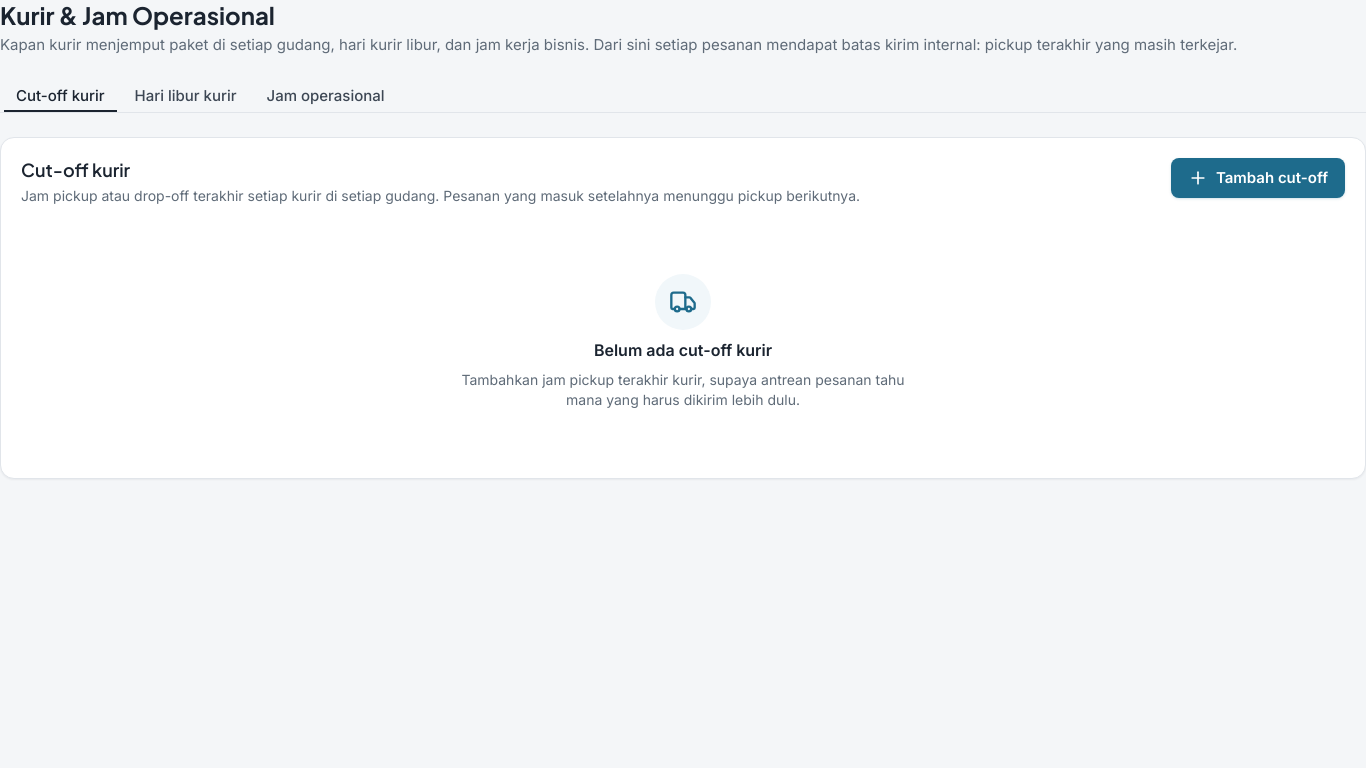
Kurir & Jam Operasional (L43) › says when the warehouse already has that courier
Expected: the text "Belum ada cut-off kurir" is shown, [594,338,772,362]
Click the button "Tambah cut-off". click: (1258, 178)
box: [1171,158,1345,198]
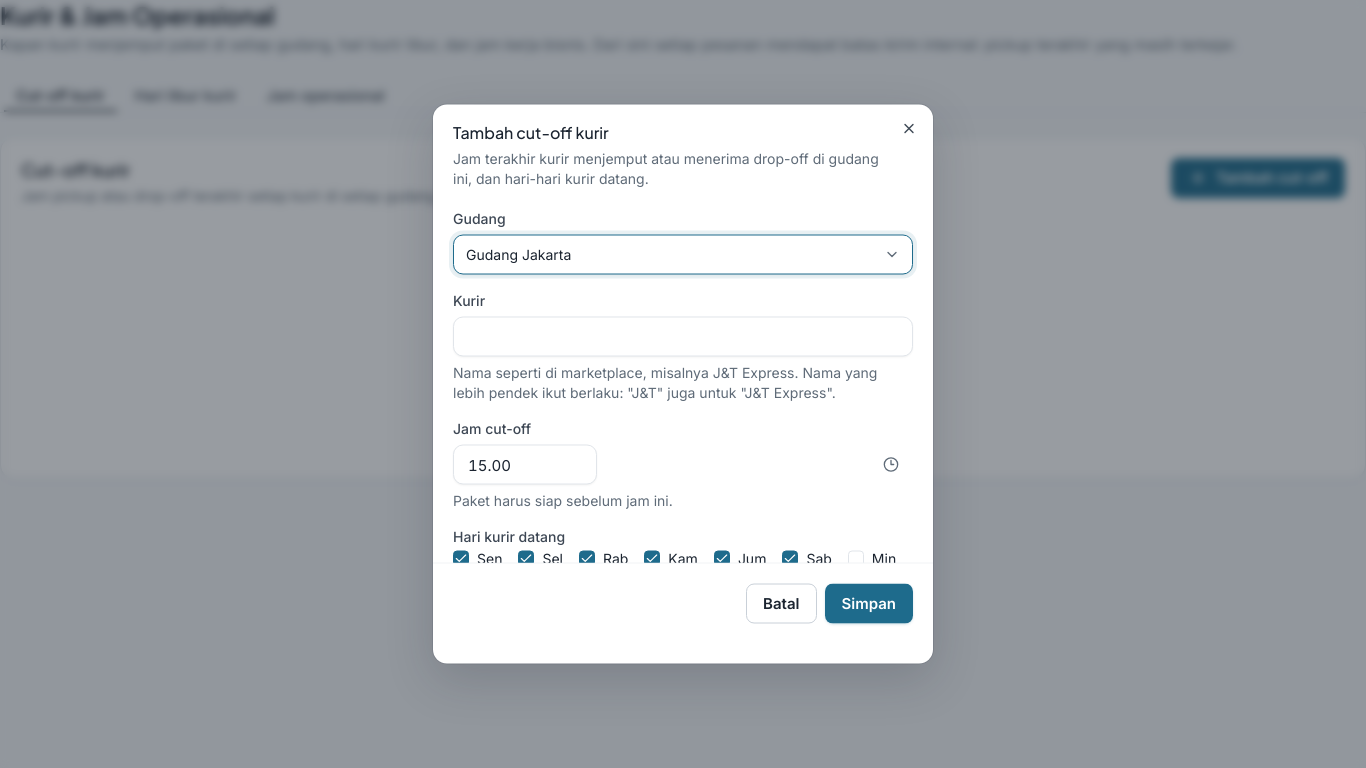
Type "JNE" into the field labelled "Kurir". click: (683, 336)
box: [453,316,913,356]
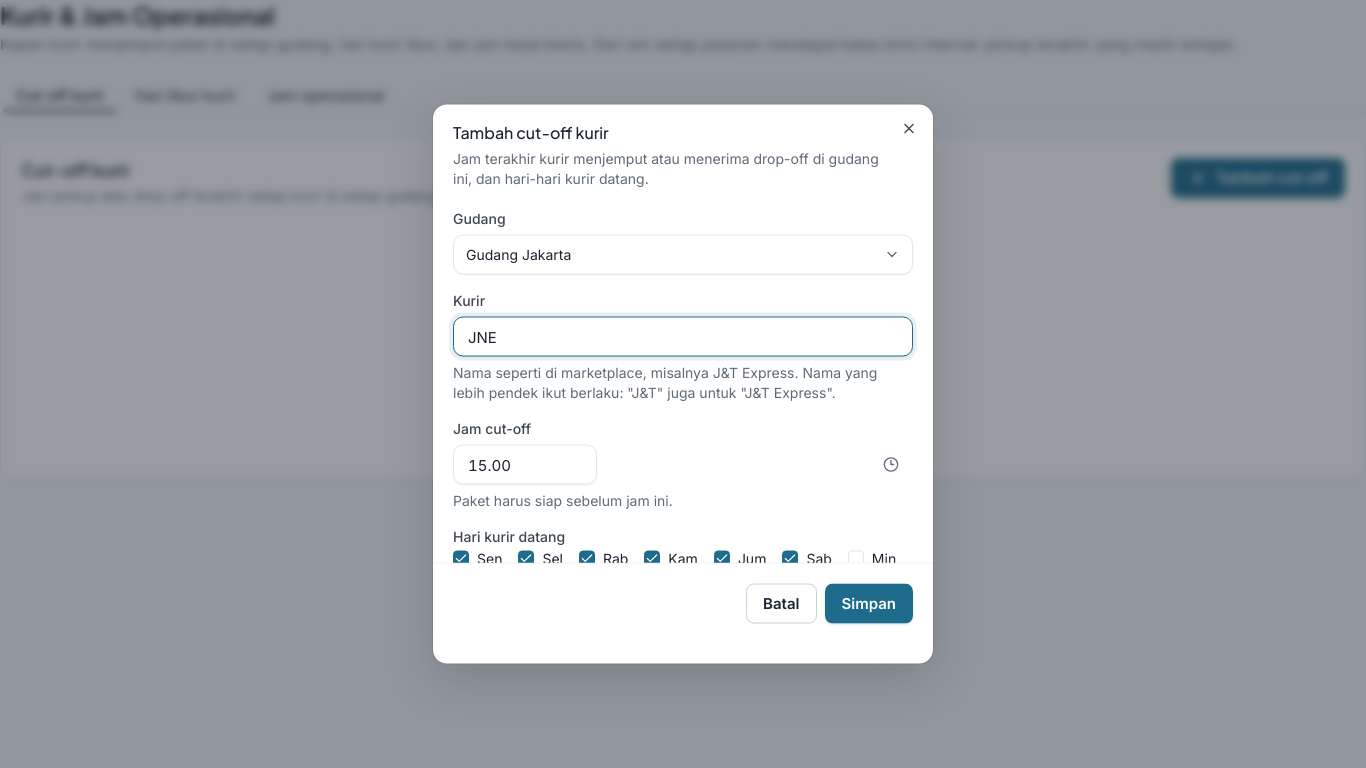
Click the button "Simpan". click: (869, 604)
box: [824,584,913,624]
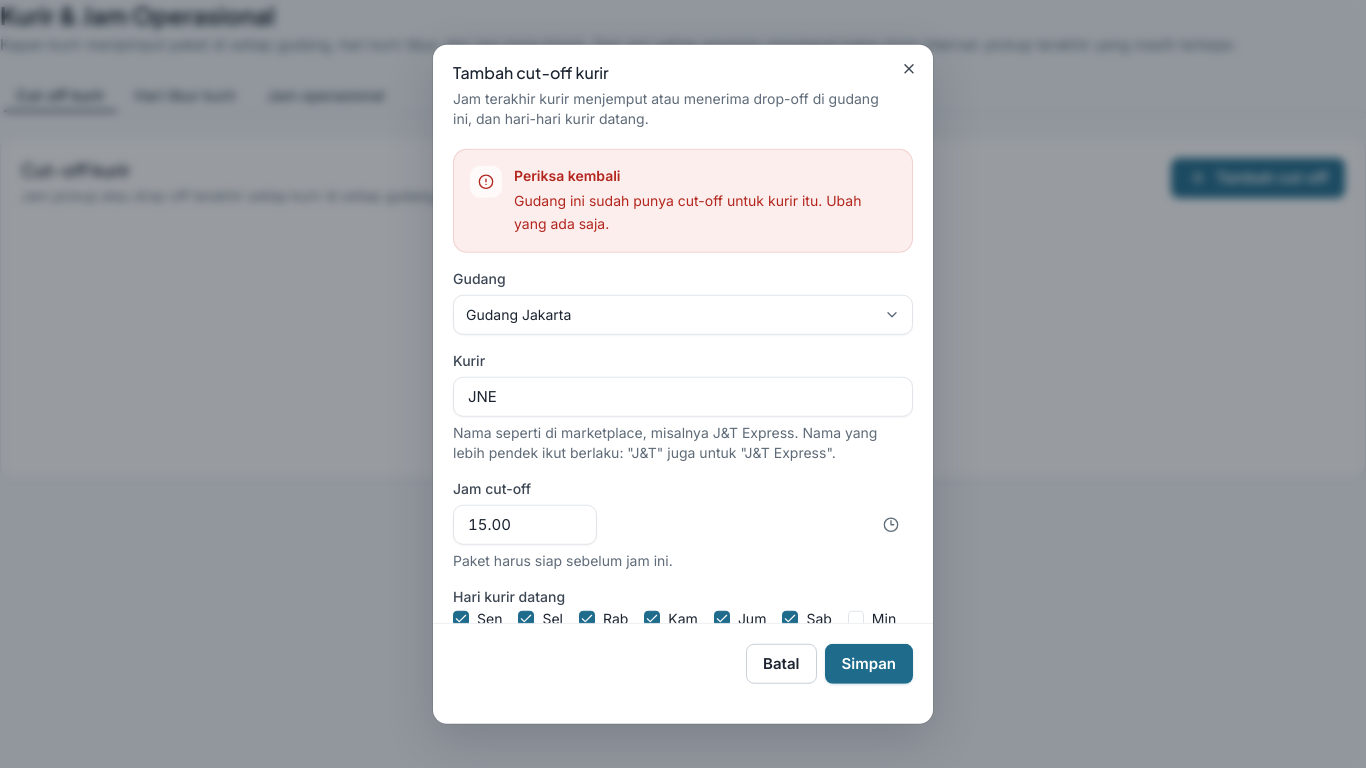
Expected: the message shows "sudah punya cut-off untuk kurir itu", [514,192,861,232]
